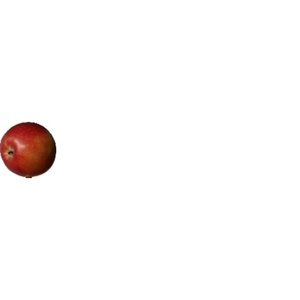maçã braeburn: (1, 119, 61, 180)
